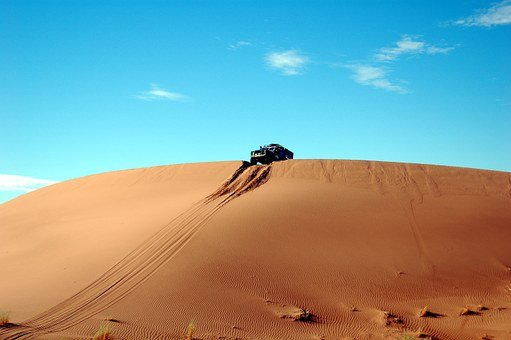desert: (19, 152, 507, 334)
sky: (3, 3, 511, 161)
